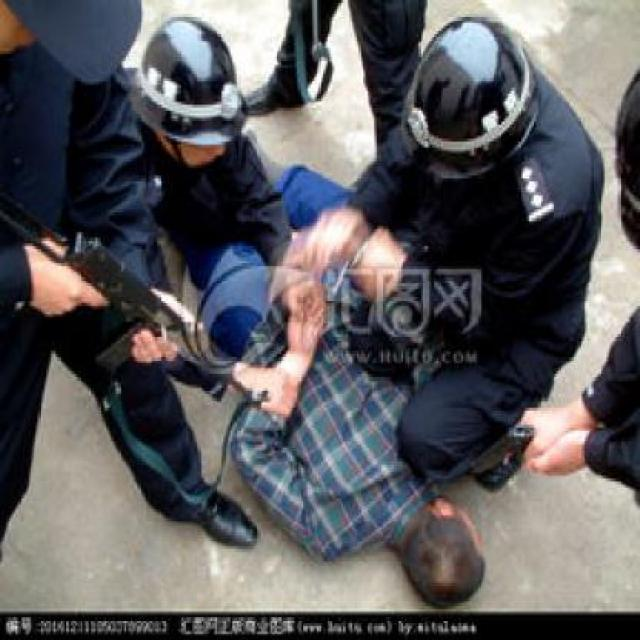fall: (232, 111, 463, 589)
